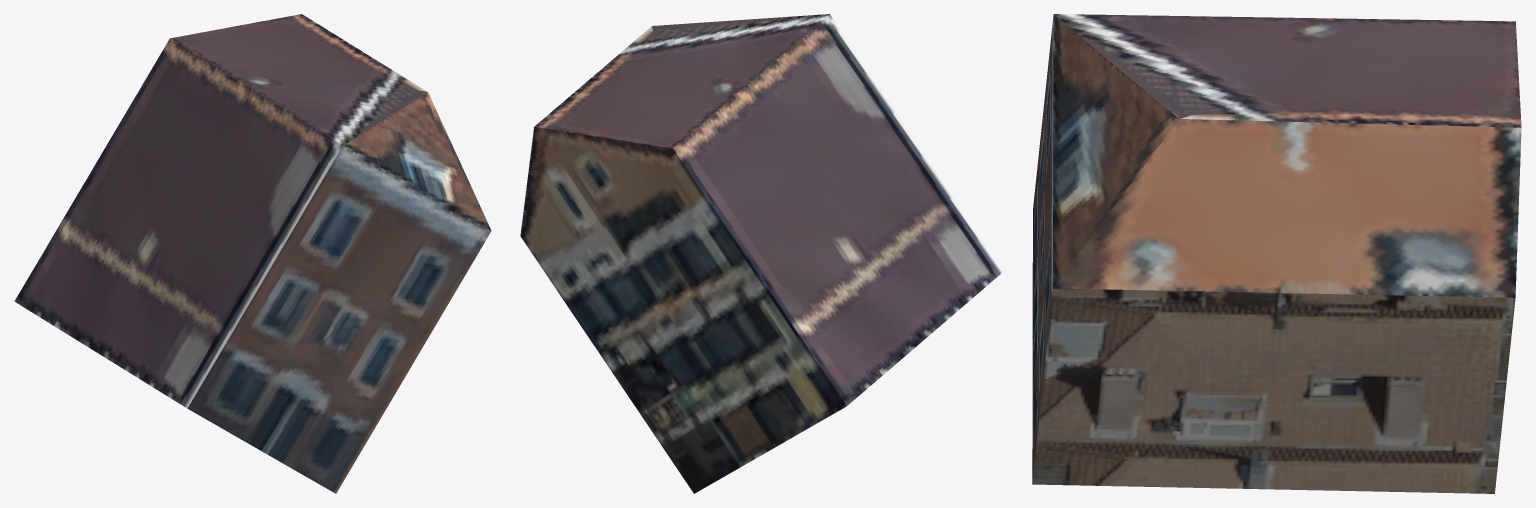
The picture shows the model from 3 angles, left to right: view 1: azimuth 30°, elevation 25°; view 2: azimuth 150°, elevation 25°; view 3: azimuth 270°, elevation 25°; orthographic projection. The views are drawn at different scales.
Parts seen in each view (by area): view 1: BAG_0599100000760399 (×3); view 2: BAG_0599100000760399 (×2); view 3: BAG_0599100000760399 (×3).
Boxes of the visible parts, <box> form: BAG_0599100000760399 (×3): <box>14,14,491,493</box>; BAG_0599100000760399 (×2): <box>520,14,1003,493</box>; BAG_0599100000760399 (×3): <box>1032,14,1521,493</box>.
Size of the model in its own units: 13.28 by 13.84 by 12.38.
1 material, 1 textured.
